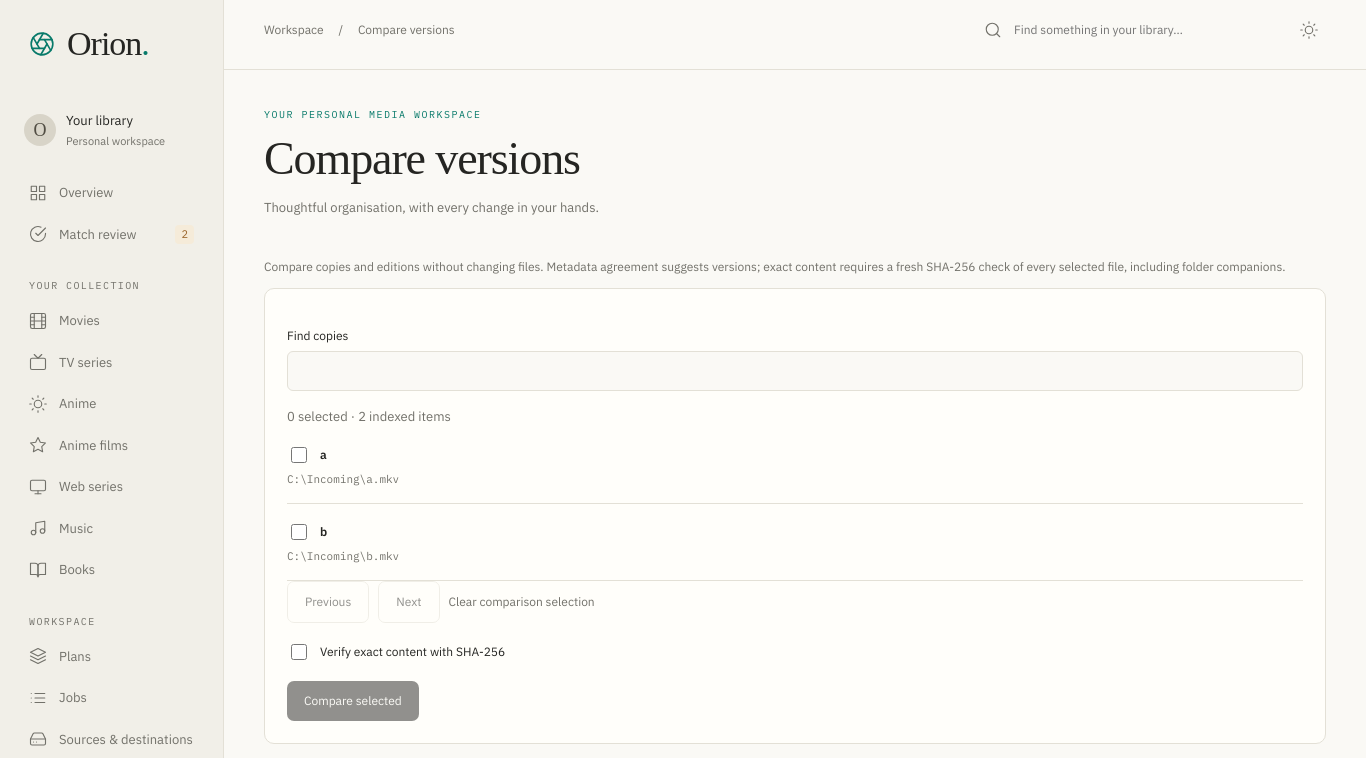
comparison explicitly selects copies, hashes only on request, and offers no delete action
Click the checkbox named "Compare a" at point(299, 455), box [291,447,307,463]
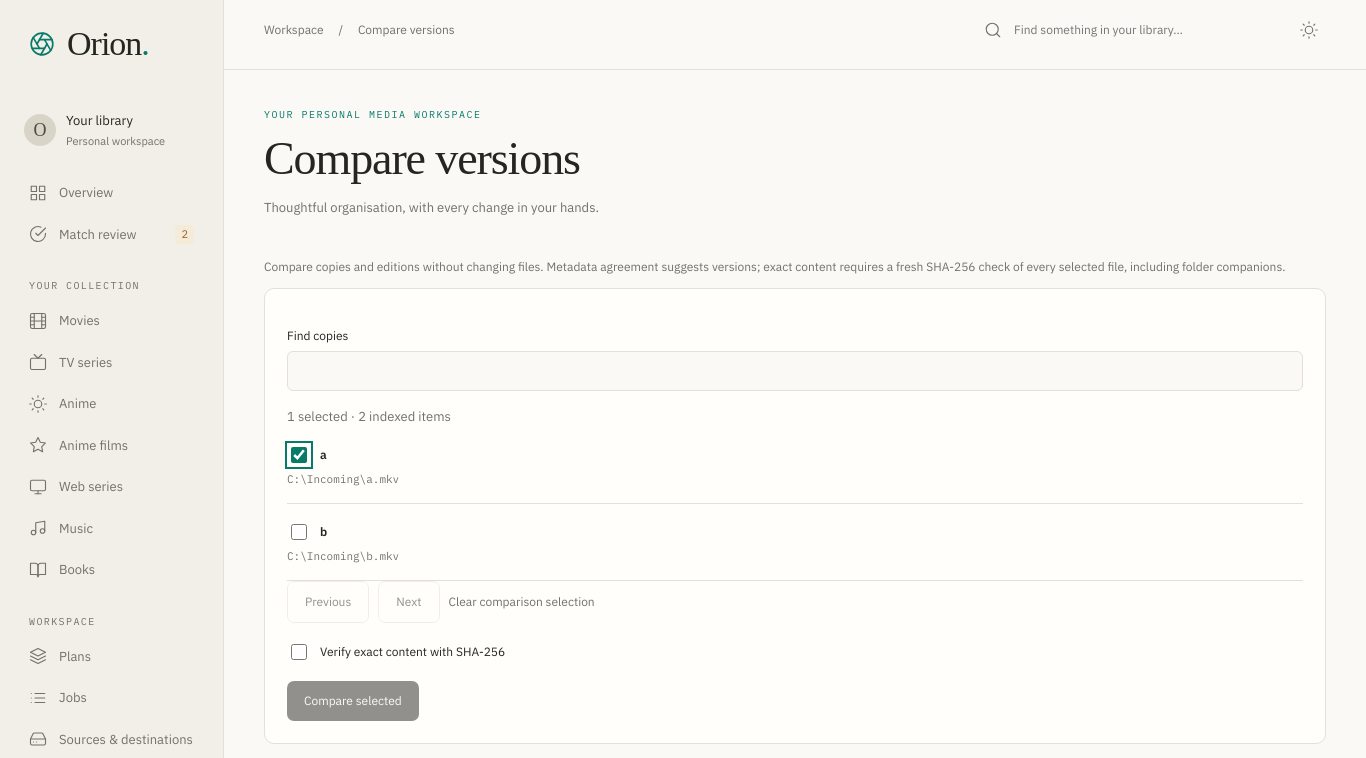
Click the checkbox named "Compare b" at point(299, 532), box [291,524,307,540]
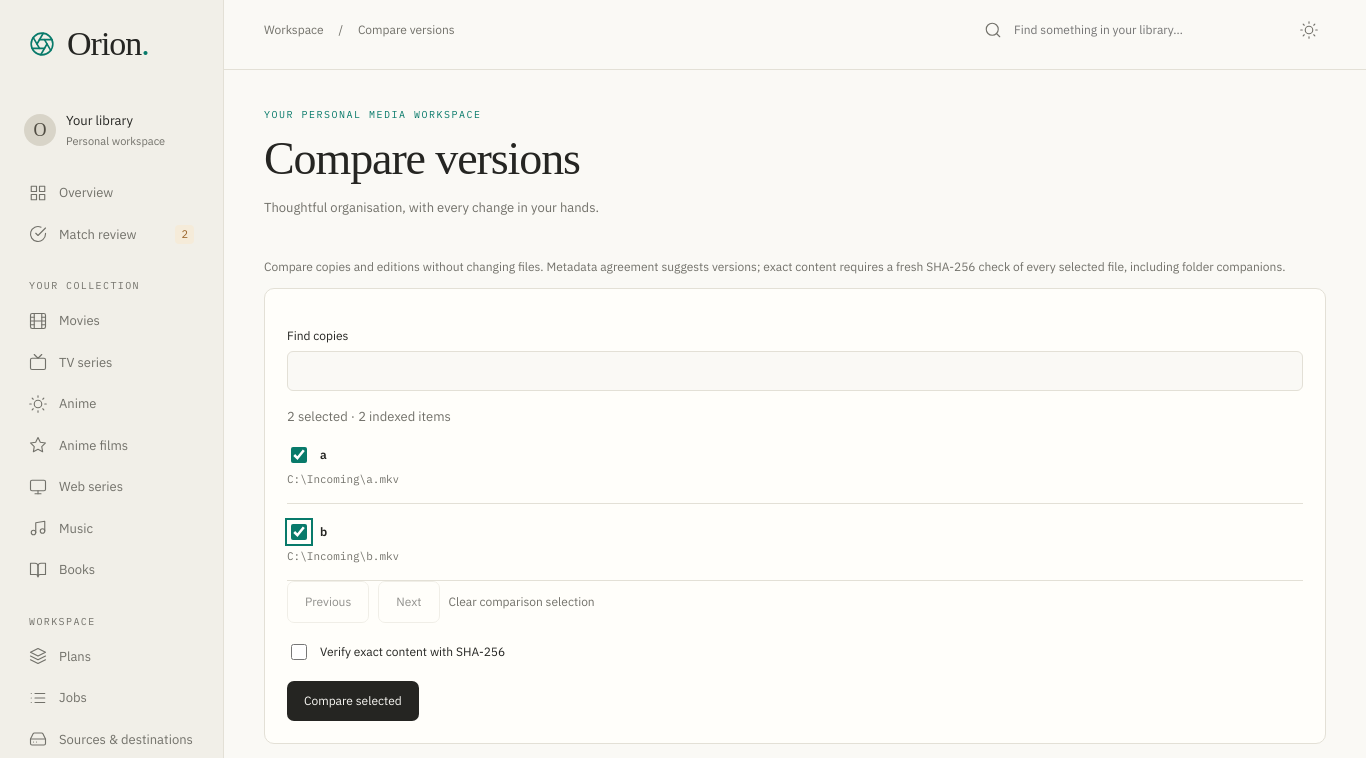
Click the checkbox labelled "Verify exact content with SHA-256" at point(299, 652), box [291,644,307,660]
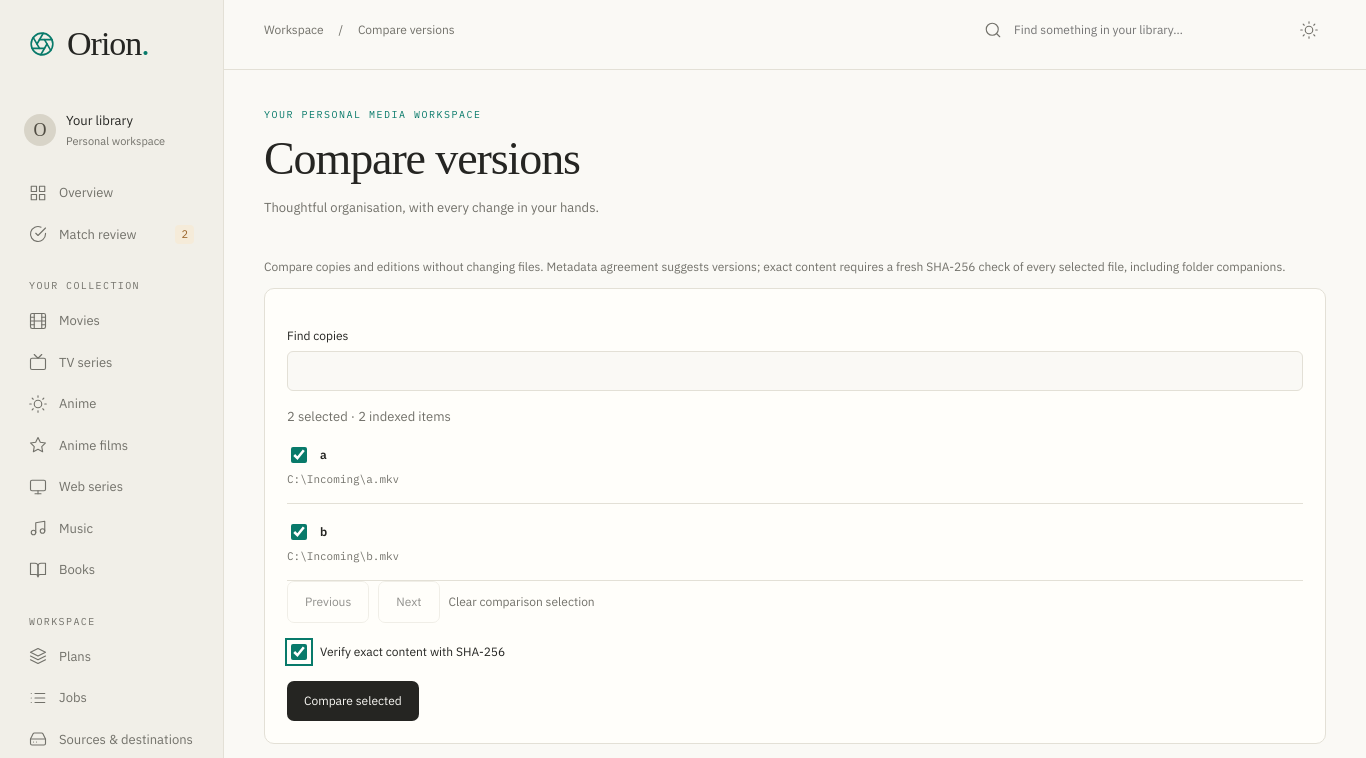
Click the button "Compare selected" at point(353, 701), box [287,681,419,721]
(page scrolled)
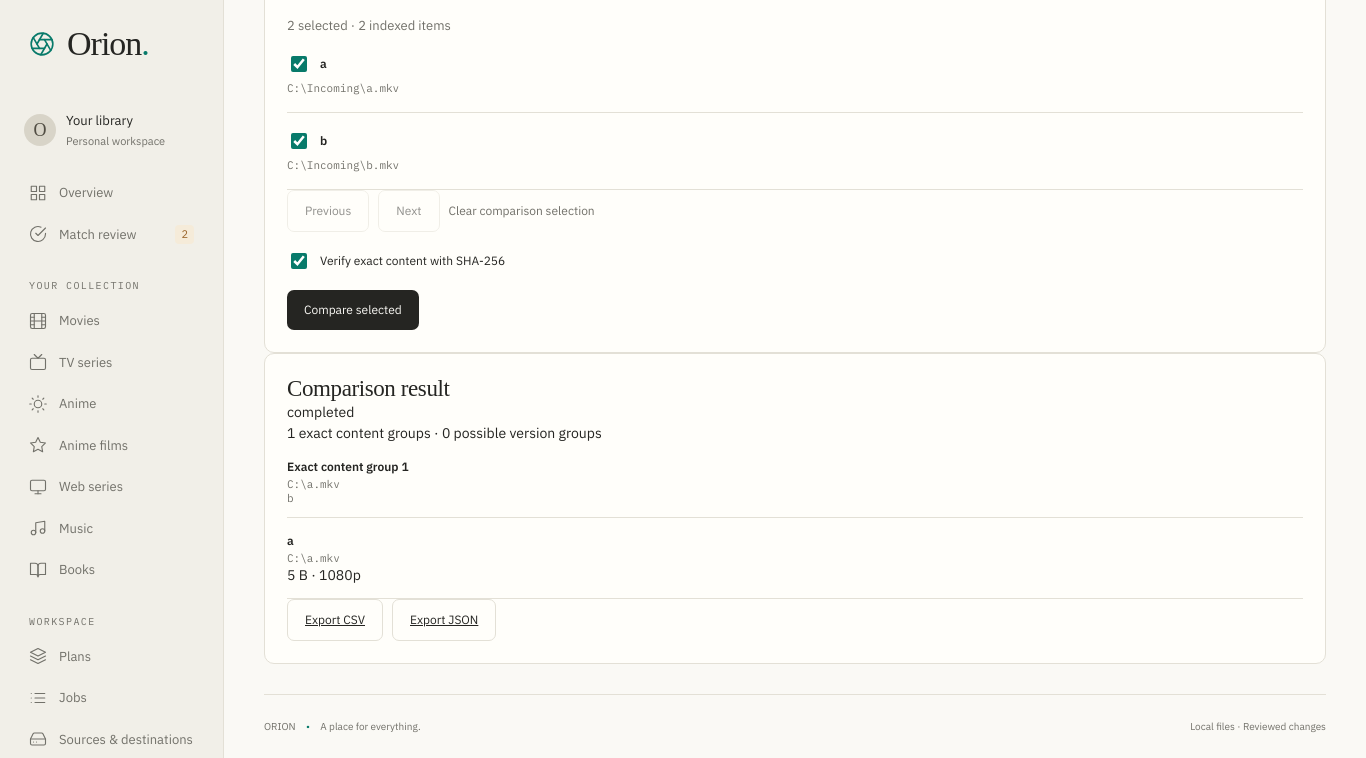
Expected: the text "1 exact content groups · 0 possible version groups" is shown, [287,424,602,442]
